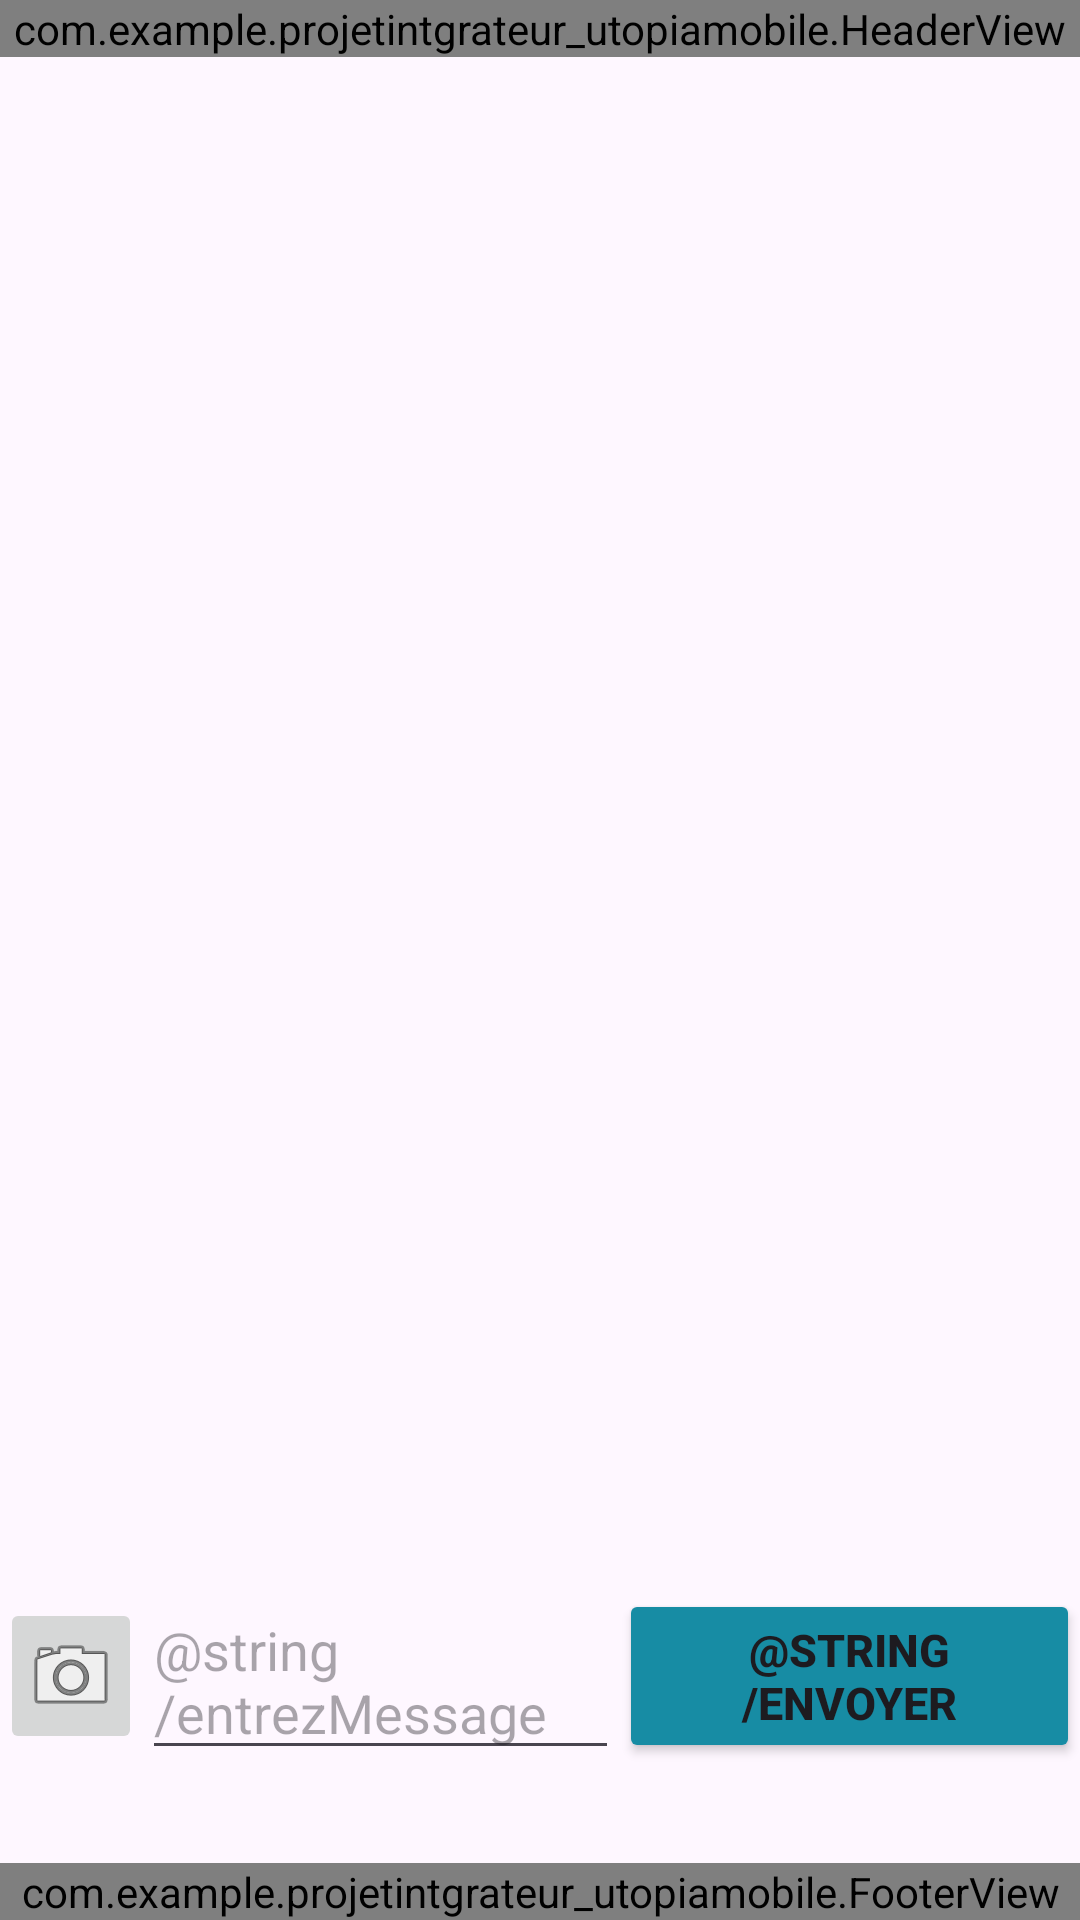

Named icons in this screenshot (1080w x 1920h) and their centers, (x,y):
camera: (71,1676)
